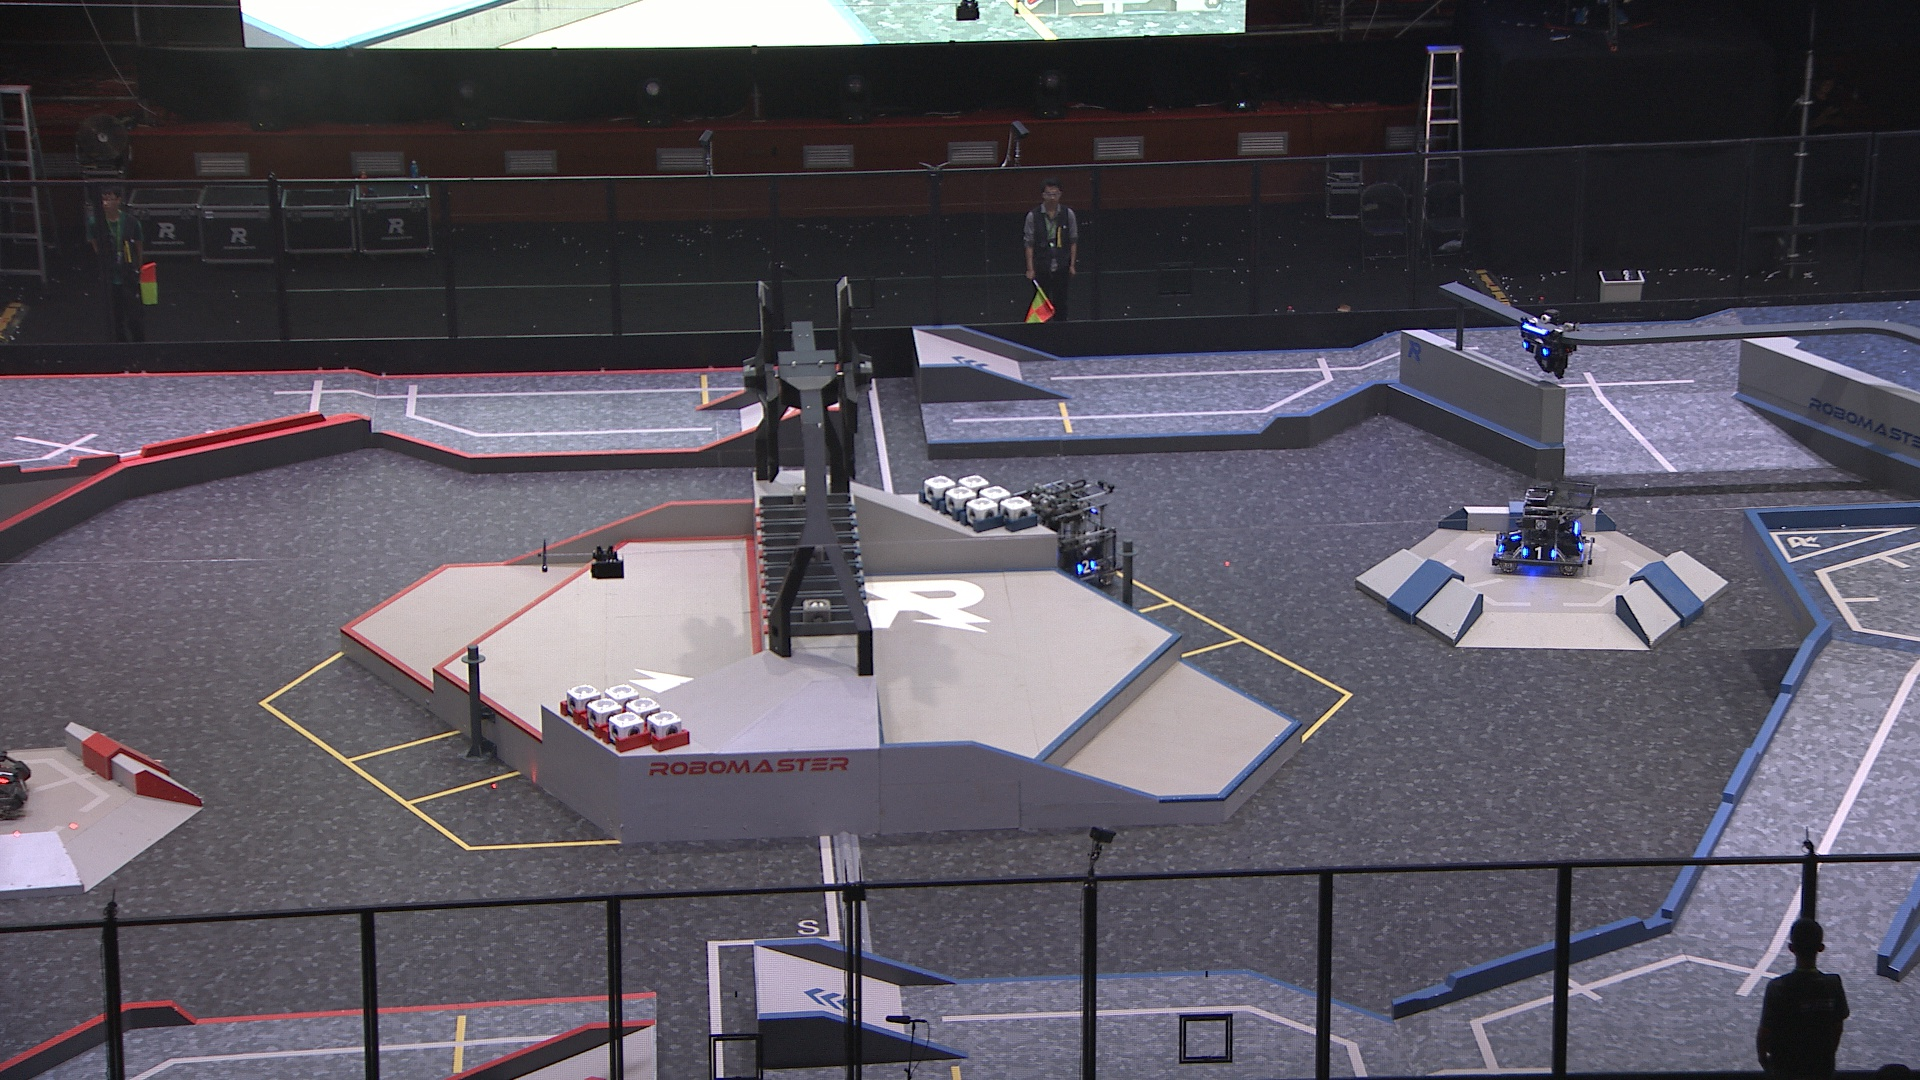armor: (1522, 546, 1556, 560), (1519, 342, 1549, 357), (1077, 556, 1098, 576), (0, 767, 15, 785), (1509, 527, 1524, 542)
car: (1007, 475, 1120, 588), (1487, 480, 1604, 576)
watcher: (1514, 310, 1580, 376)
